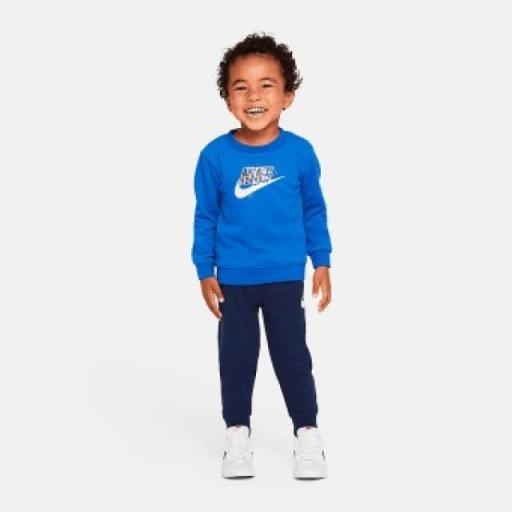Nike: (232, 179, 277, 200), (240, 164, 274, 187)
